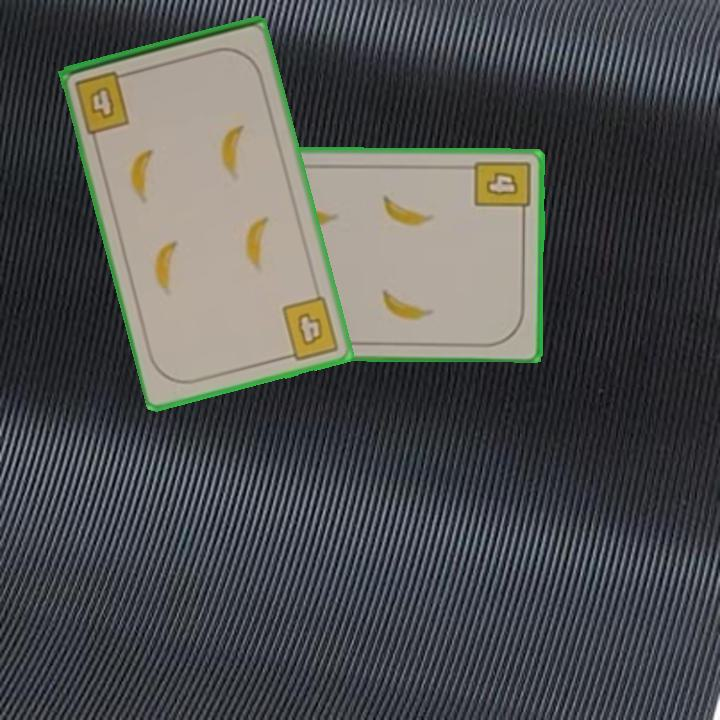4b: (278, 293, 343, 363), (71, 67, 135, 137), (471, 157, 532, 221)
